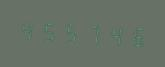five: (38, 17, 58, 45), (60, 18, 80, 46)
four: (17, 16, 37, 44), (102, 21, 122, 49)
seven: (81, 19, 101, 47)
six: (123, 22, 143, 50)
